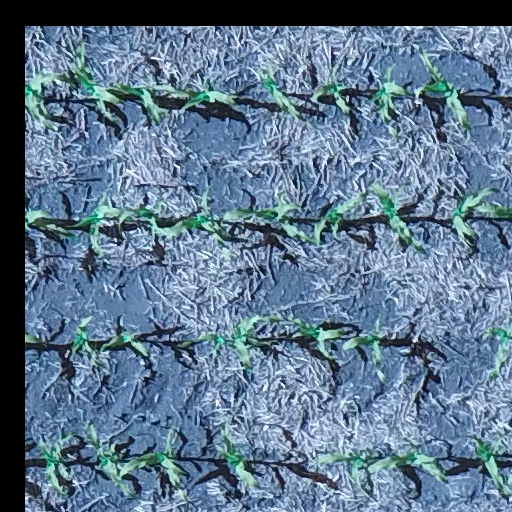planta: (119, 427, 191, 502), (222, 196, 321, 244), (63, 192, 132, 259), (416, 51, 470, 130), (70, 41, 122, 123), (86, 423, 139, 501), (370, 181, 424, 253), (164, 186, 230, 244), (367, 437, 449, 480), (288, 314, 348, 371), (148, 81, 240, 114), (313, 191, 367, 246), (25, 72, 76, 130), (254, 61, 305, 119), (313, 450, 377, 496), (231, 312, 280, 371), (213, 427, 259, 488), (450, 187, 496, 247), (38, 431, 80, 496), (104, 81, 168, 123), (369, 65, 415, 123), (310, 55, 352, 117), (69, 316, 103, 368), (25, 208, 76, 242), (117, 200, 168, 234), (99, 329, 150, 359), (345, 332, 382, 365), (177, 331, 226, 354)
